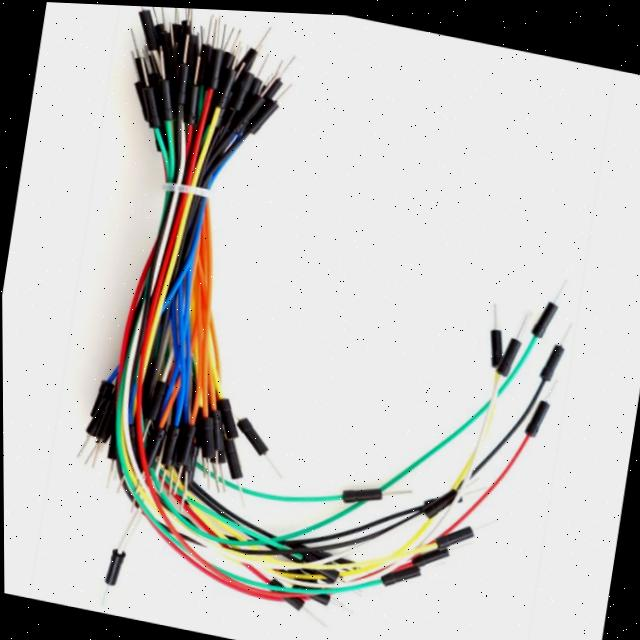Jumper Wires: (42, 3, 604, 640)
